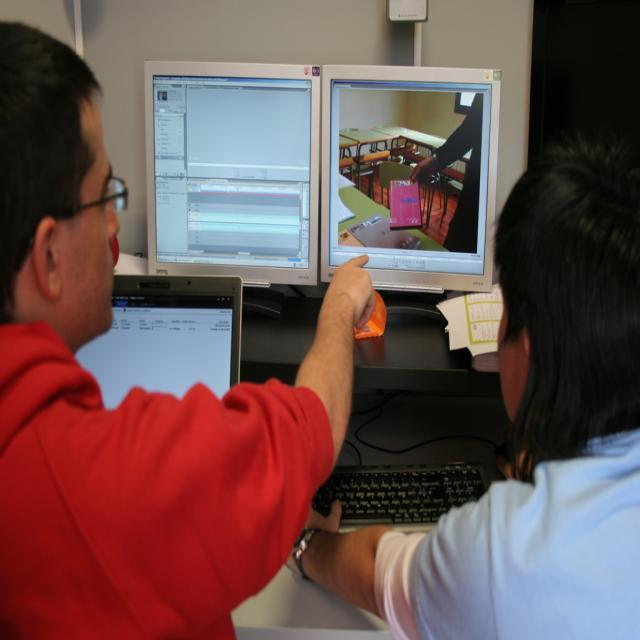others: (128, 39, 504, 307)
